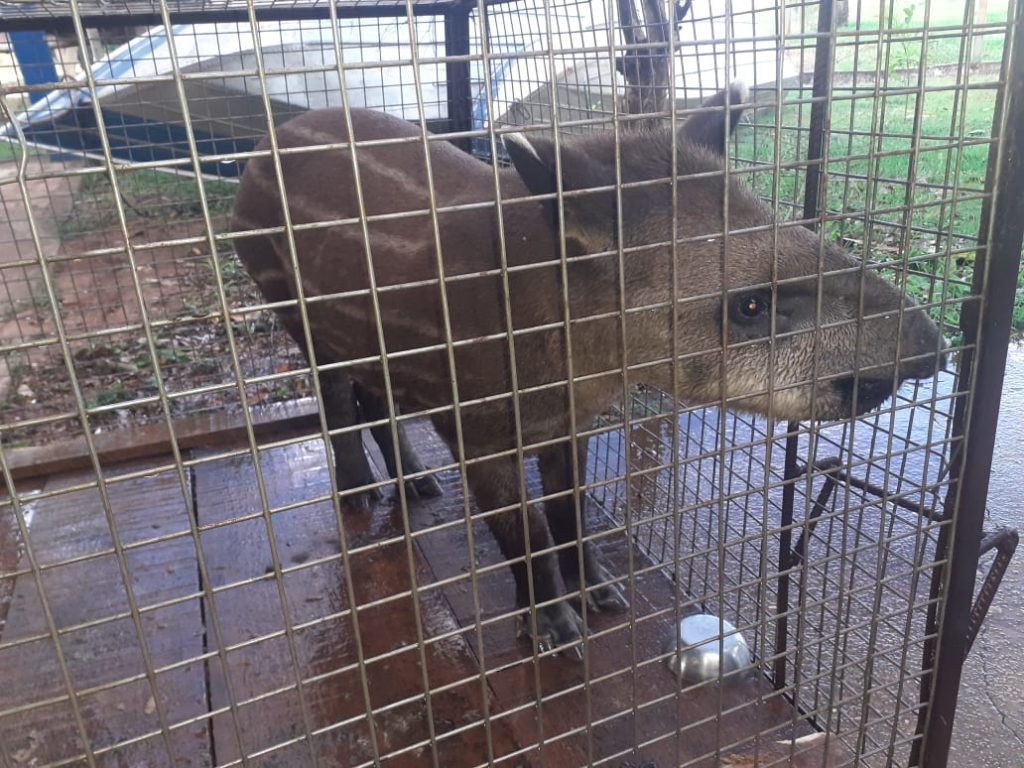Anta: (223, 75, 957, 671)
